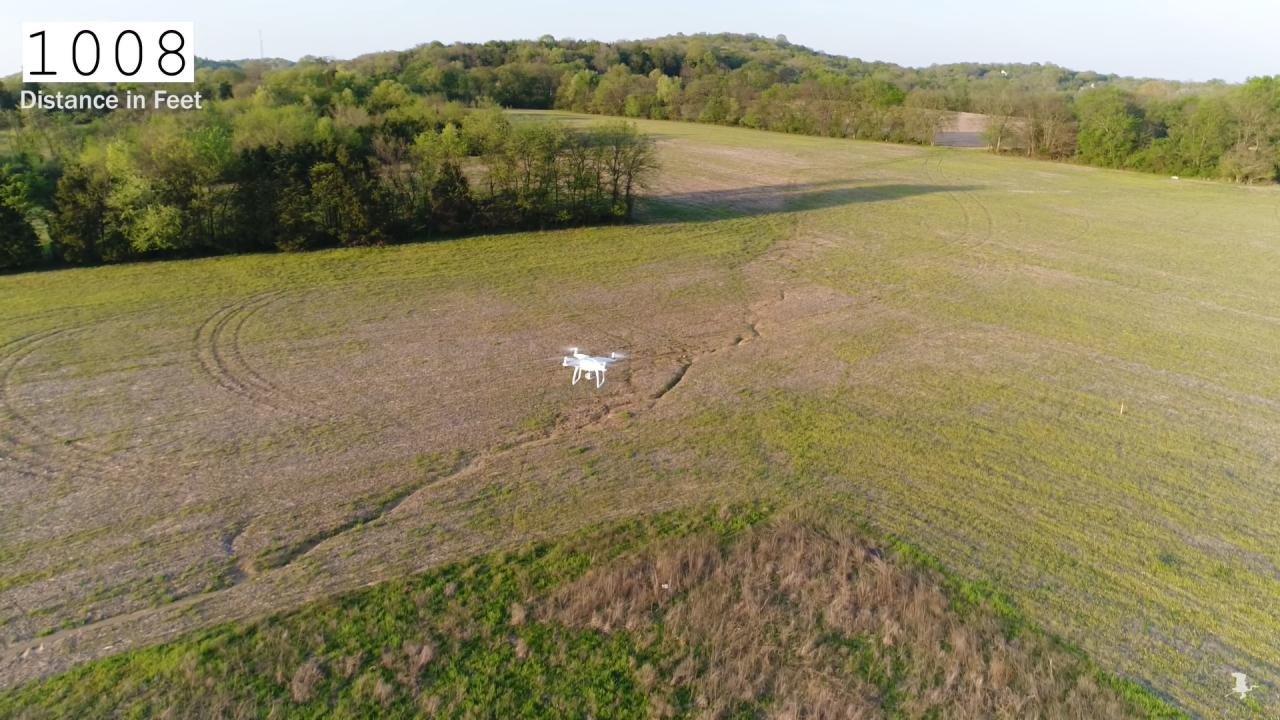Drone: (548, 335, 639, 395)
